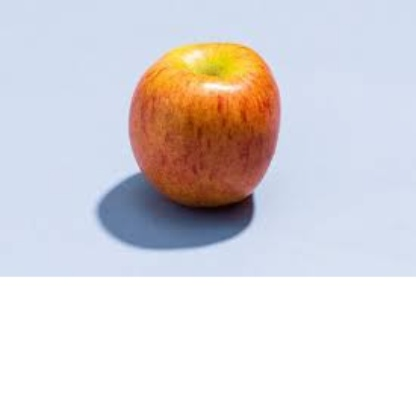tao: (109, 45, 314, 228)
